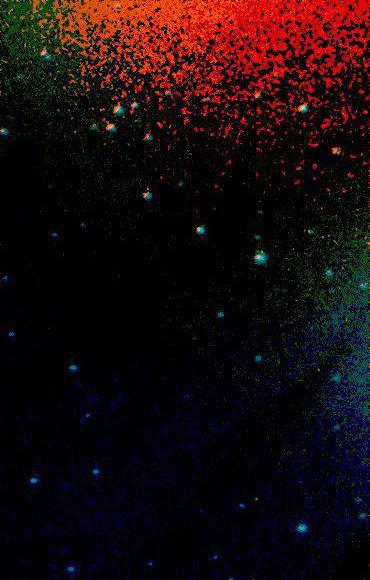star: (240, 484, 270, 514)
